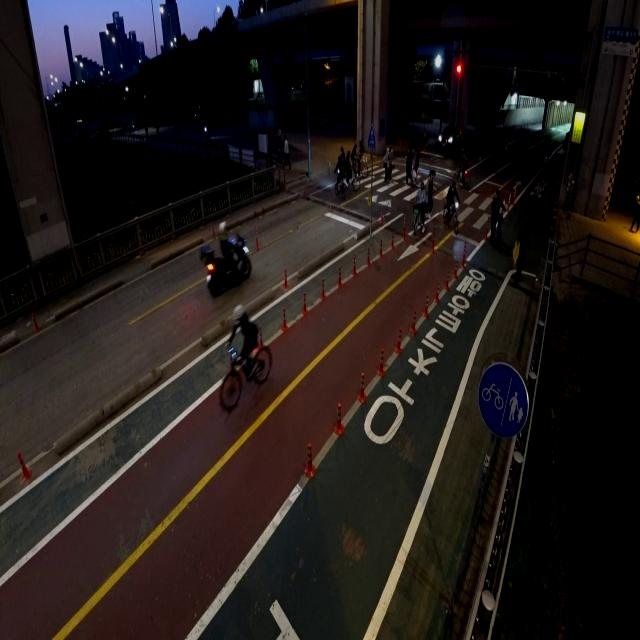Car: (436, 119, 467, 158)
Motorcycle: (198, 219, 252, 298)
